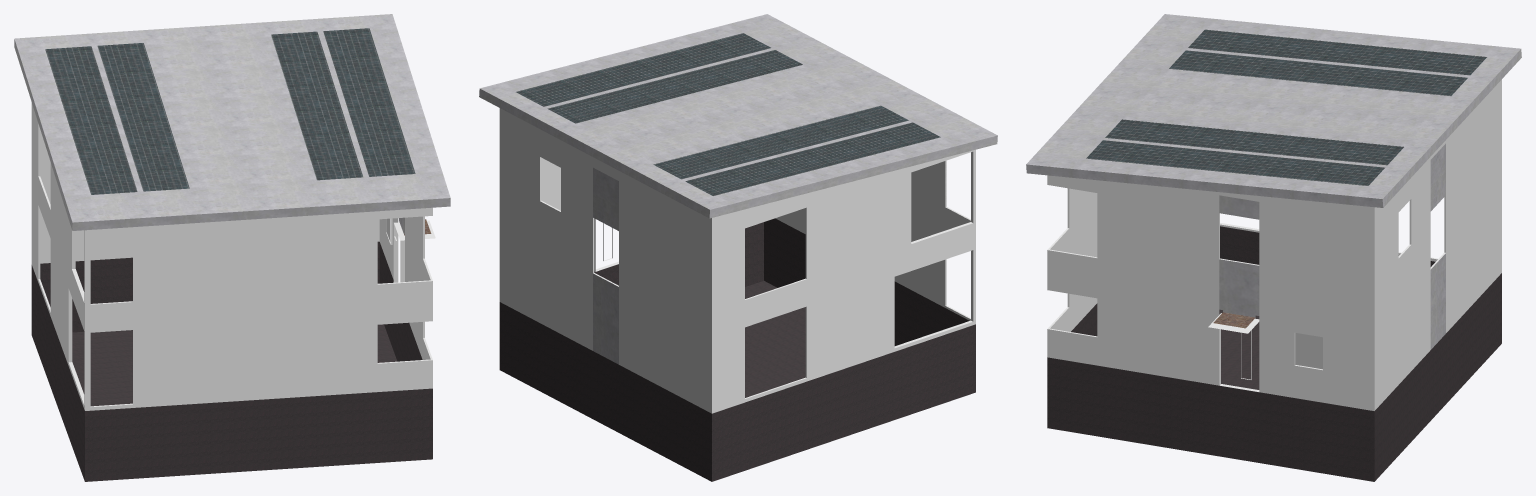
The picture shows the model from 3 angles, left to right: view 1: azimuth 30°, elevation 25°; view 2: azimuth 150°, elevation 25°; view 3: azimuth 270°, elevation 25°; orthographic projection. The views are drawn at different scales.
Visible parts, largest first — view 1: Mesh 67, Mesh 58, Mesh 32, Mesh 75; view 2: Mesh 67, Mesh 32, Mesh 58, Mesh 75; view 3: Mesh 67, Mesh 58, Mesh 32, Mesh 75, Plane.001.
Part boxes in pixels (<box>): Mesh 67: <box>31,103,435,410</box>; Mesh 58: <box>14,14,450,234</box>; Mesh 32: <box>31,241,432,481</box>; Mesh 75: <box>45,28,415,194</box>; Mesh 67: <box>499,108,975,413</box>; Mesh 32: <box>499,218,975,481</box>; Mesh 58: <box>479,14,997,364</box>; Mesh 75: <box>516,33,940,195</box>; Mesh 67: <box>1047,79,1501,410</box>; Mesh 58: <box>1026,14,1521,349</box>; Mesh 32: <box>1047,226,1501,481</box>; Mesh 75: <box>1086,29,1486,185</box>; Plane.001: <box>1297,334,1321,367</box>.
Bounding box in the file's own units: 12.68 × 8.22 × 12.7.
7 materials, 6 textured.
